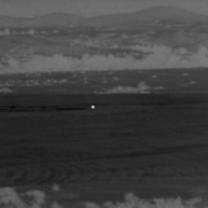Target: (90, 104, 96, 110)
